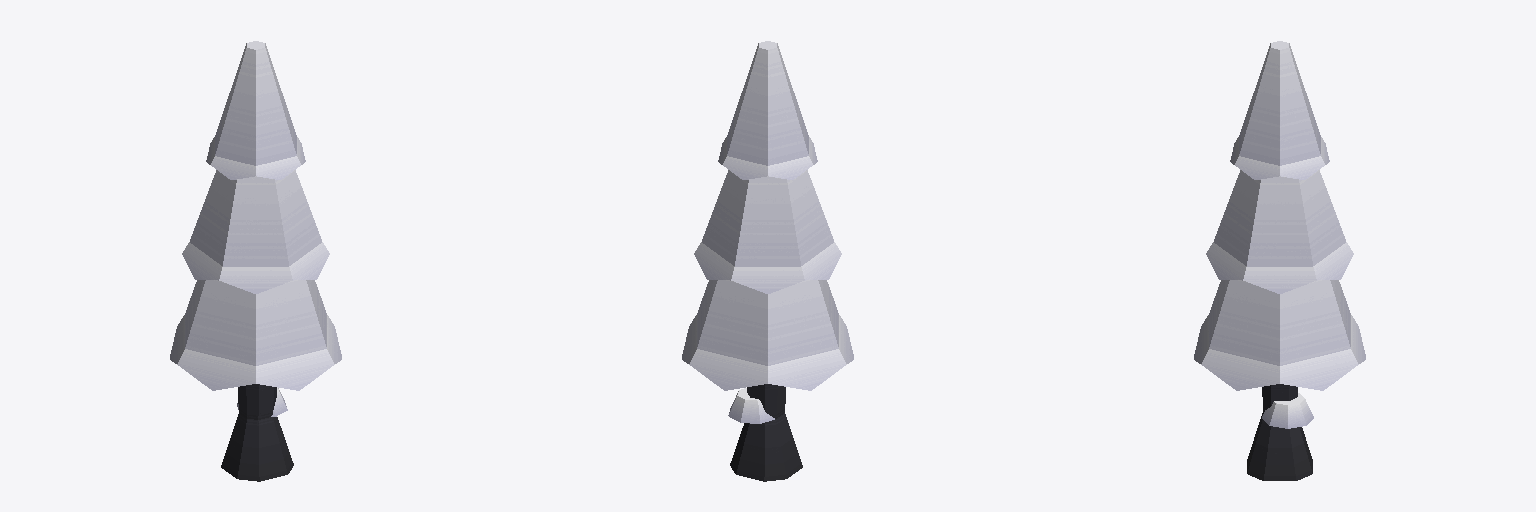
The picture shows the model from 3 angles: view 1: azimuth 30°, elevation 25°; view 2: azimuth 150°, elevation 25°; view 3: azimuth 270°, elevation 25°; orthographic projection.
Parts seen in each view (by area): view 1: tree; view 2: tree; view 3: tree.
Boxes of the visible parts, <box> form: tree: <box>170,41,341,481</box>; tree: <box>682,41,853,481</box>; tree: <box>1194,41,1365,480</box>.
Size of the model in its own units: 1.36 by 3.47 by 1.3.
1 materials, 1 textured.